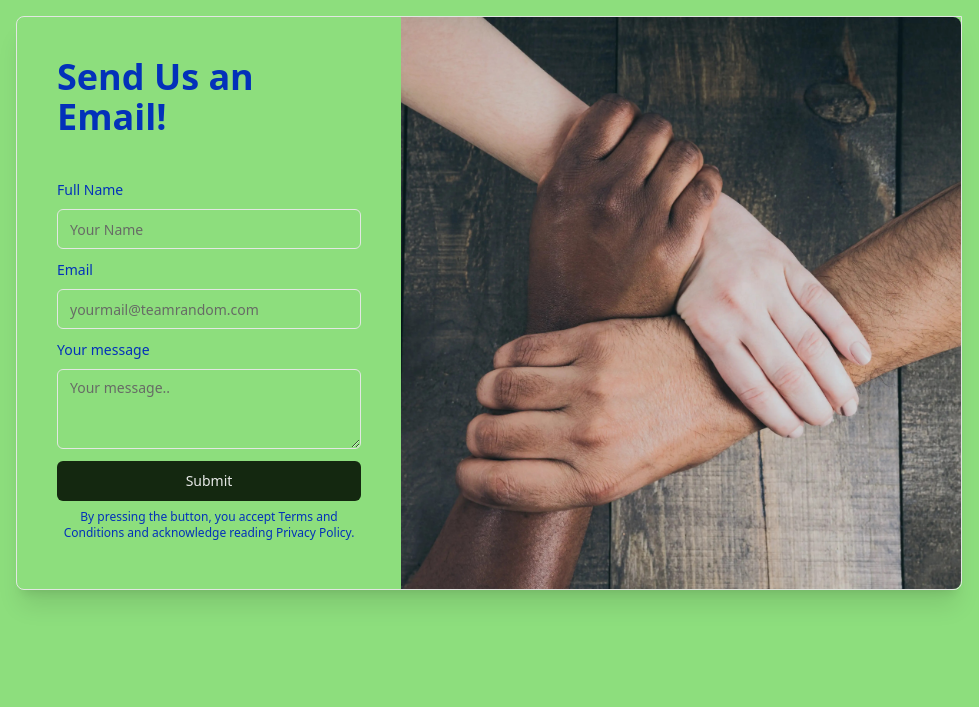
Scenario: ContactForm › surfaces the three Zod validation messages on an empty submit
Click the button "Submit": (209, 481) [57,461,361,501]
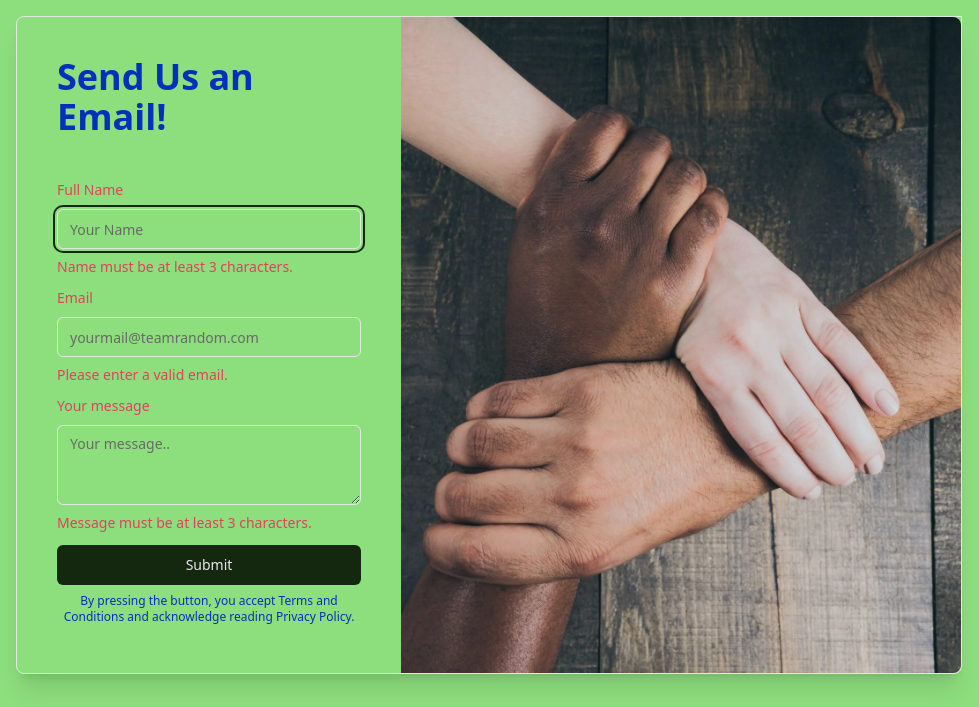
Expected: the text "Name must be at least 3 characters." is shown, [57,257,293,276]
Expected: the text "Please enter a valid email." is shown, [57,365,228,384]
Expected: the text "Message must be at least 3 characters." is shown, [57,513,312,532]
